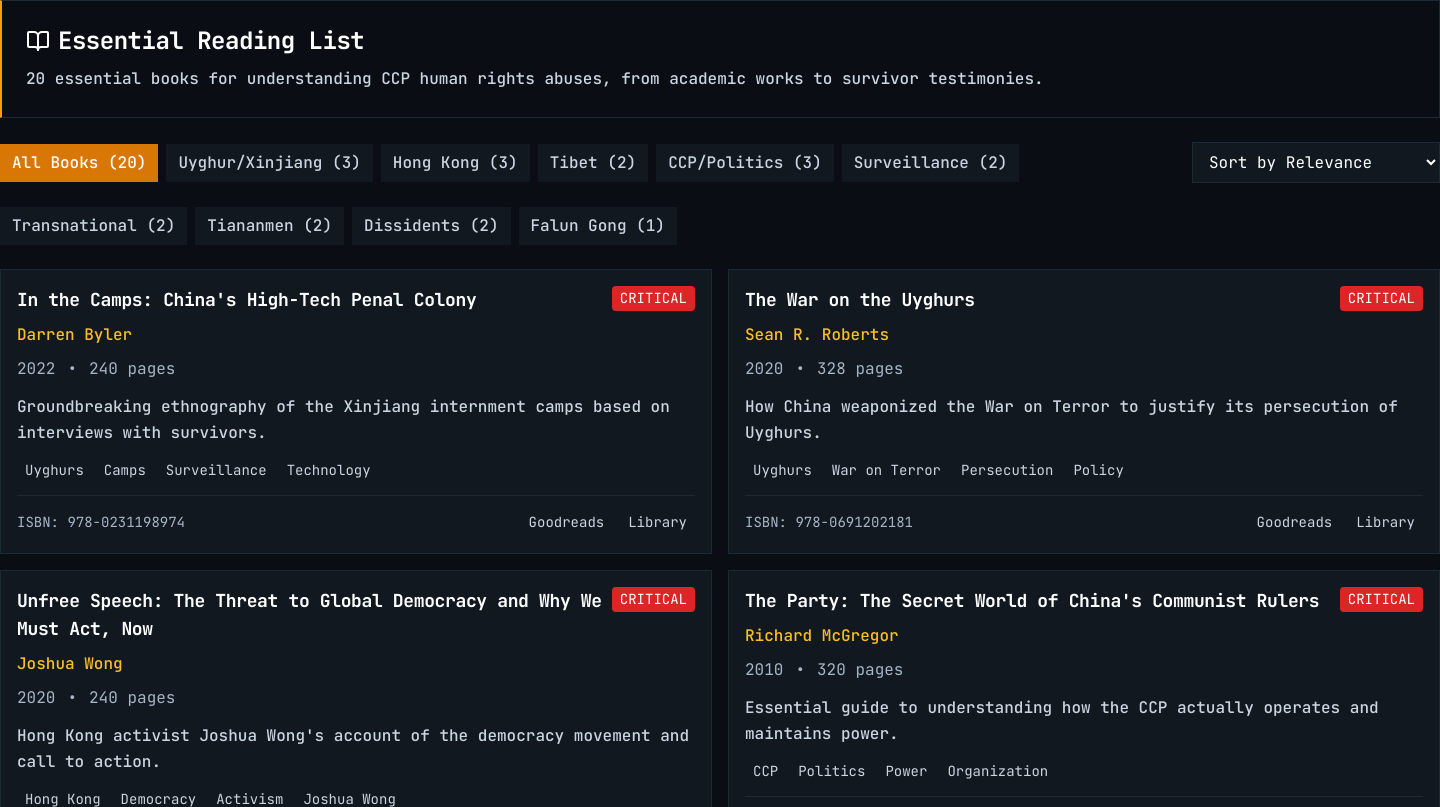
ReadingList › sorts books by year when sort option is changed
The image size is (1440, 807).
Select "Sort by Year (Newest)" in the dropdown named "Sort" at (1316,162), box [1192,142,1439,183]
(page scrolled)
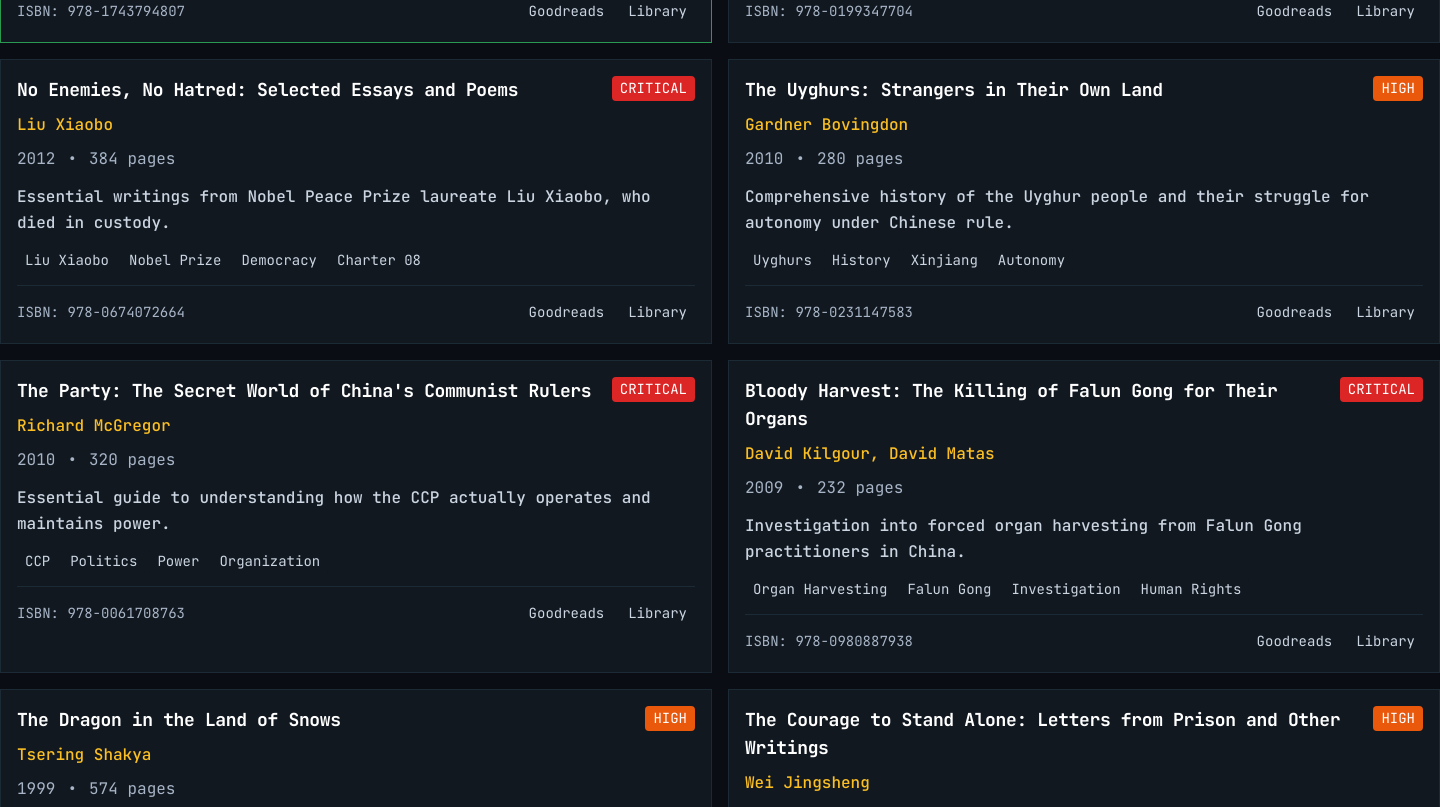
Expected: the heading "Bloody Harvest: The Killing of Falun Gong for Their Organs" is shown, [745,377,1340,433]
